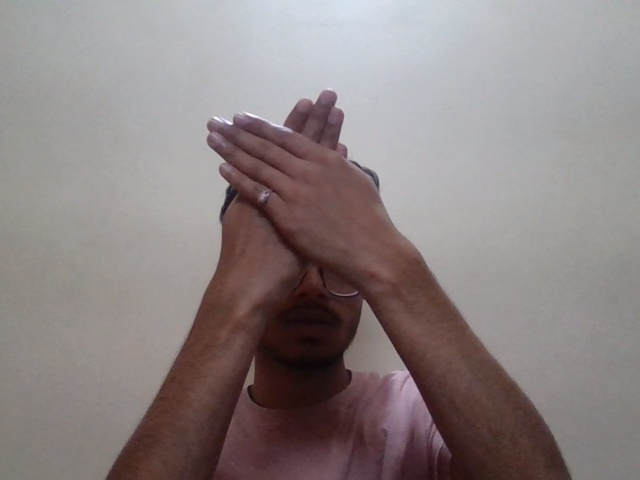what: (173, 85, 410, 307)
